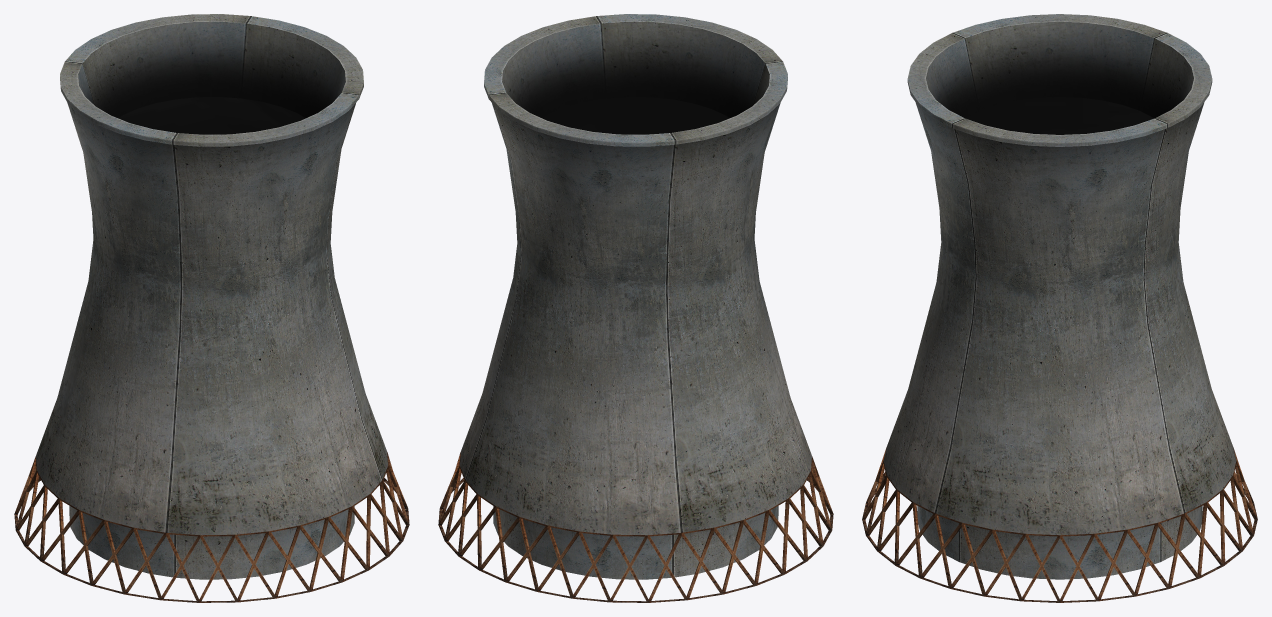
Rendered from reactor.dae.
The picture shows the model from 3 angles, left to right: view 1: azimuth 30°, elevation 25°; view 2: azimuth 150°, elevation 25°; view 3: azimuth 270°, elevation 25°; orthographic projection.
Parts seen in each view (by area): view 1: Reactor; view 2: Reactor; view 3: Reactor.
Boxes of the visible parts, x1=… form: Reactor: x1=14, y1=14, x2=409, y2=602; Reactor: x1=438, y1=14, x2=833, y2=602; Reactor: x1=862, y1=14, x2=1257, y2=602.
Bounding box in the file's own units: 830 × 830 × 1020.
